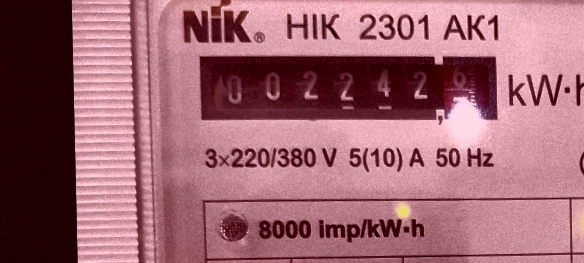0: (224, 71, 244, 105), (262, 68, 282, 101)
2: (300, 68, 320, 100), (337, 68, 355, 102), (411, 68, 428, 100)
4: (375, 65, 392, 98)
6: (451, 62, 467, 89)
screen: (188, 38, 508, 135)
